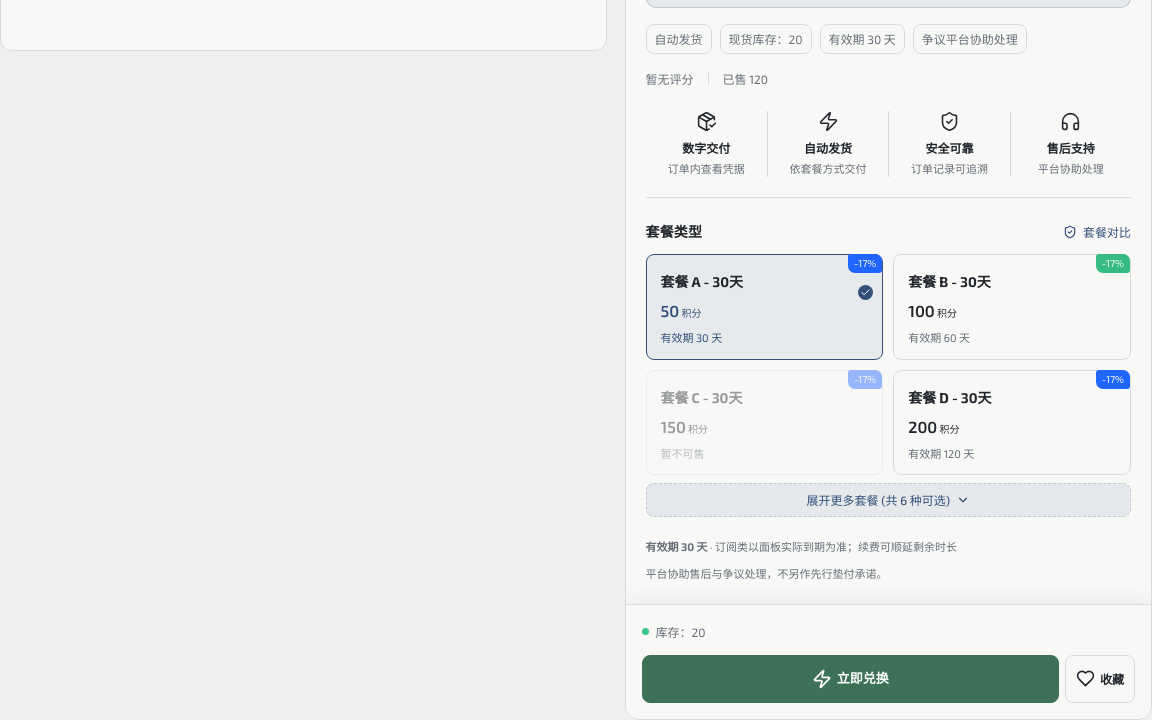
Test case: ProductDetailPhase3 - Desktop Offers Collapse › collapses offers when offers > 4, allowing expand and re-collapse
The image size is (1152, 720).
(page scrolled)
Click toggle to expand
Step 1. Click the button with test id "desktop-offers-toggle" → (888, 500), box x1=646 y1=483 x2=1131 y2=517
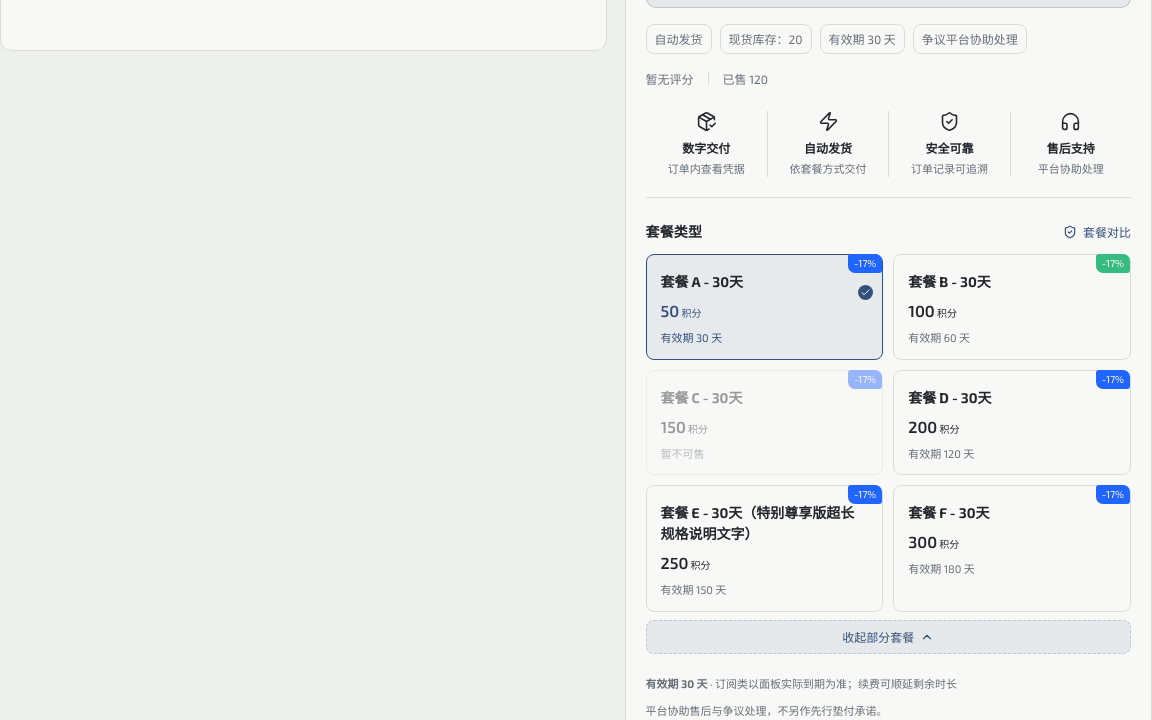
Now the button with test id "desktop-offers-toggle" reads "收起部分套餐"
Now the button with test id "desktop-offers-toggle" is expanded
Click toggle to collapse again
Step 2. Click the button with test id "desktop-offers-toggle" → (888, 637), box x1=646 y1=620 x2=1131 y2=654
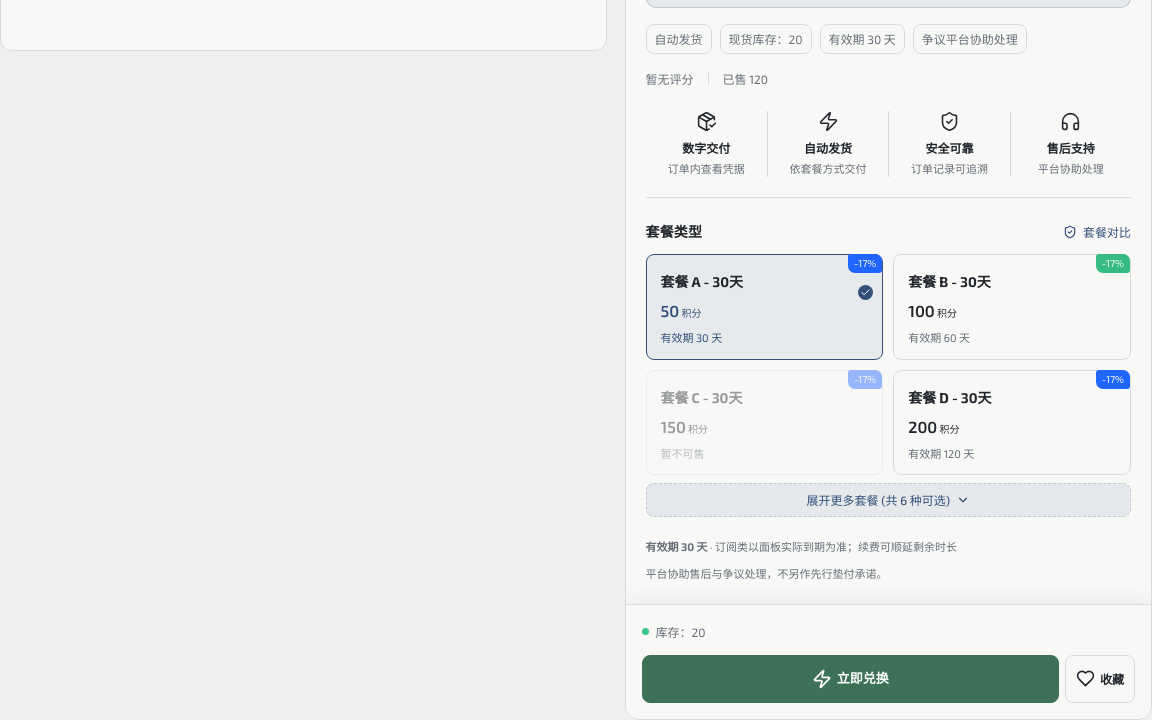
Now the button with test id "desktop-offers-toggle" reads "展开更多套餐 (共 6 种可选)", box x1=646 y1=483 x2=1131 y2=517
